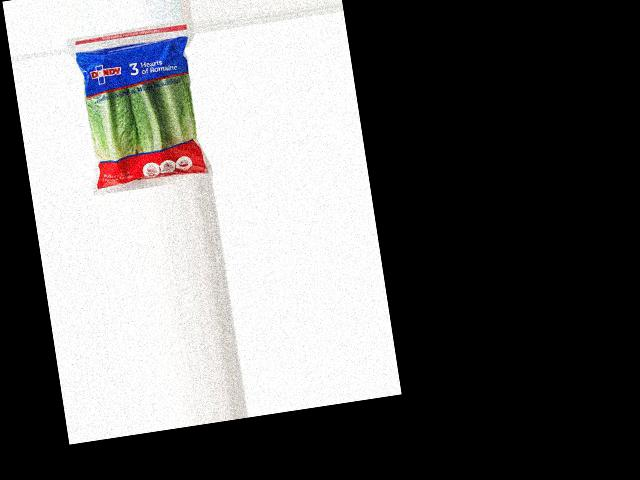lettuce: (72, 28, 197, 141)
